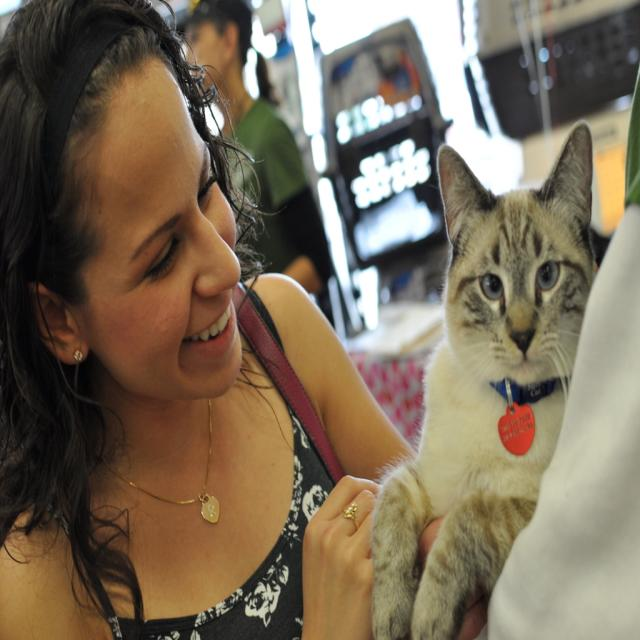Cat: (369, 117, 596, 638)
